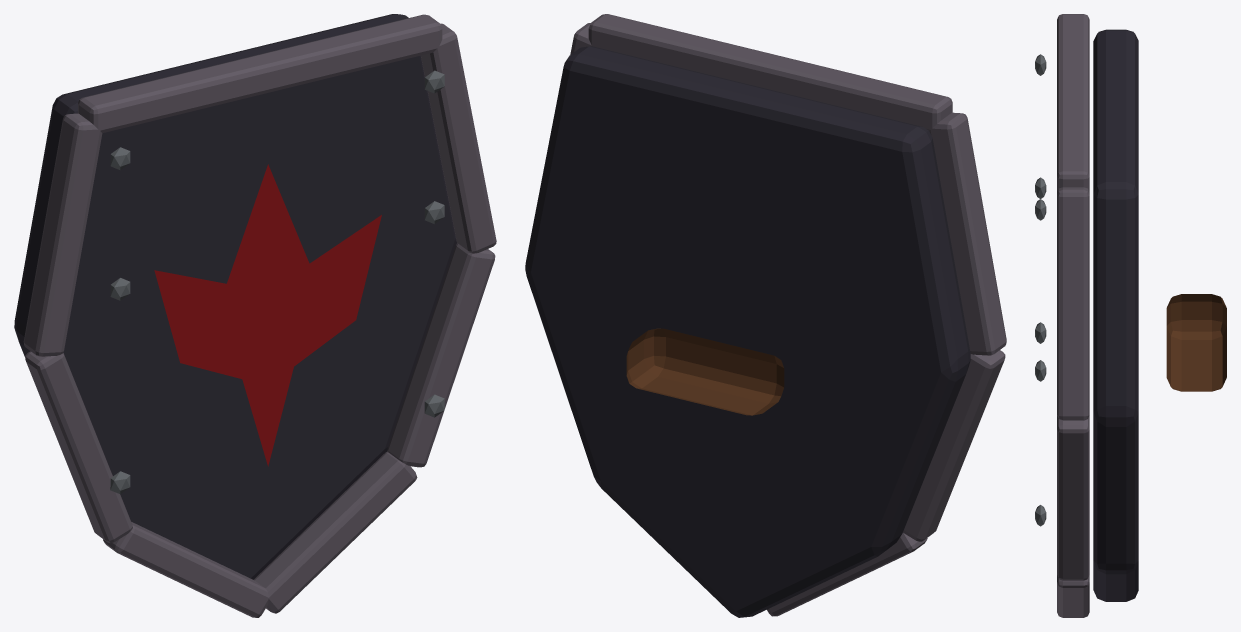
File: evil_shield.glb
The picture shows the model from 3 angles, left to right: view 1: azimuth 30°, elevation 25°; view 2: azimuth 150°, elevation 25°; view 3: azimuth 270°, elevation 25°; orthographic projection. The views are drawn at different scales.
Parts seen in each view (by area): view 1: Shield blue field, Crimson shield emblem, Shield gold rim, Shield gold rim.006, Shield gold rim.002, Shield gold rim.001, Shield gold rim.003, Shield gold rim.005, Shield gold rim.004; view 2: Shield blue field, Shield gold rim, Shield hand grip, Shield gold rim.006, Shield gold rim.005, Shield gold rim.004; view 3: Shield blue field, Shield gold rim.001, Shield hand grip, Shield gold rim, Shield gold rim.002, Shield gold rim.003.
Boxes of the visible parts, x1,y1,x2,y2 form: Shield blue field: (14,14,456,579); Crimson shield emblem: (154,164,381,466); Shield gold rim: (78,14,442,133); Shield gold rim.006: (23,113,102,356); Shield gold rim.002: (387,243,495,467); Shield gold rim.001: (421,23,496,253); Shield gold rim.003: (254,451,417,613); Shield gold rim.005: (25,351,132,542); Shield gold rim.004: (103,522,268,617); Shield blue field: (525,46,970,617); Shield gold rim: (588,14,952,130); Shield hand grip: (626,328,784,415); Shield gold rim.006: (929,112,1006,355); Shield gold rim.005: (903,350,1005,541); Shield gold rim.004: (767,533,927,616); Shield blue field: (1093,29,1138,601); Shield gold rim.001: (1057,187,1089,420); Shield hand grip: (1166,294,1226,391); Shield gold rim: (1057,14,1089,190); Shield gold rim.002: (1057,416,1089,580); Shield gold rim.003: (1057,575,1089,617).
Bounding box in the file's own units: 0.9968 × 1.14 × 0.3811.
